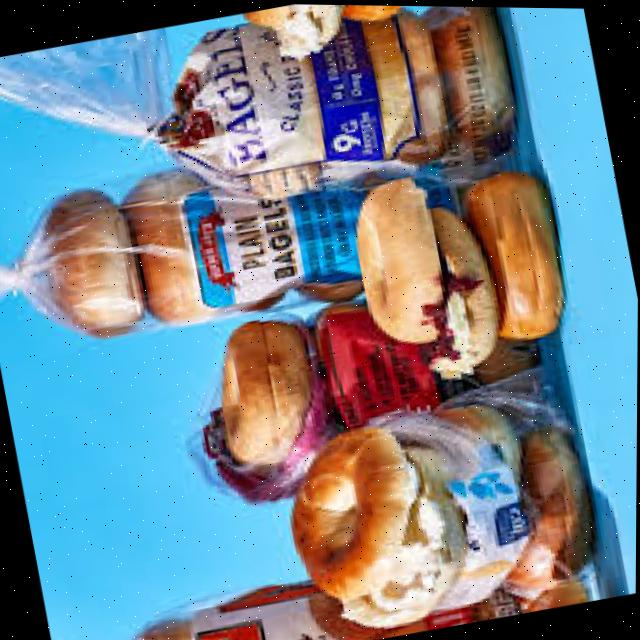Bagel: (293, 425, 465, 625), (464, 169, 564, 337), (357, 176, 444, 341), (222, 319, 311, 462)
